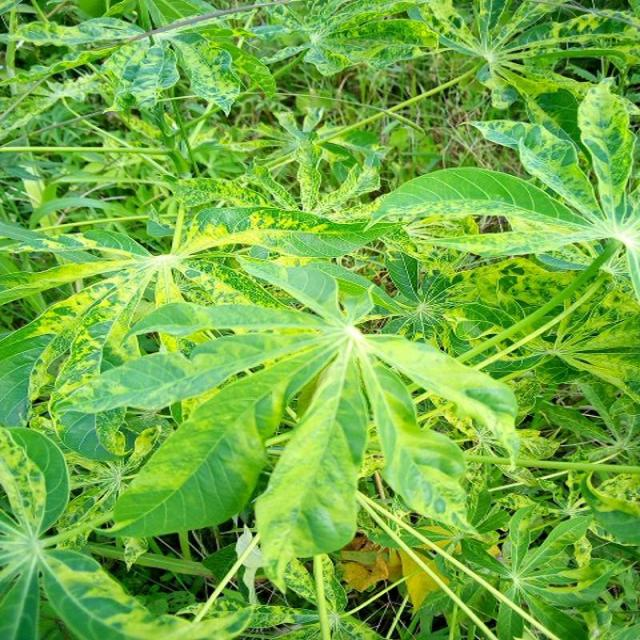cassava leaf: (0, 2, 638, 637), (74, 253, 520, 590)
